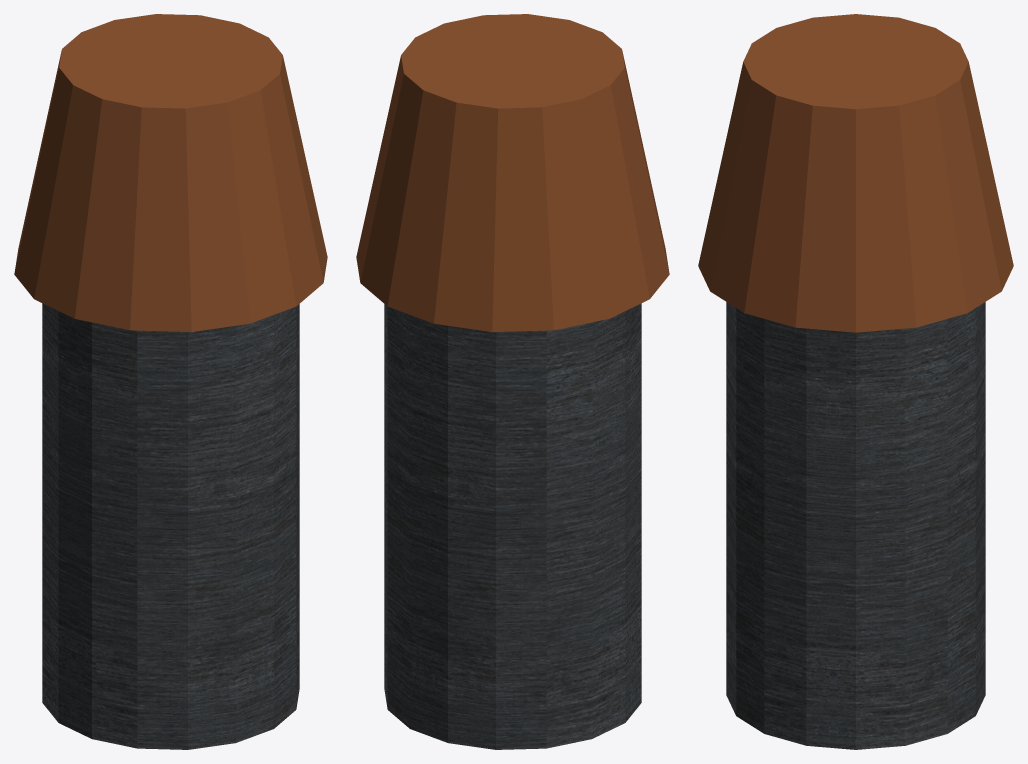
Rendered from commons-coffee-grinder.glb.
The picture shows the model from 3 angles, left to right: view 1: azimuth 30°, elevation 25°; view 2: azimuth 150°, elevation 25°; view 3: azimuth 270°, elevation 25°; orthographic projection.
Parts seen in each view (by area): view 1: FURN_Grinder.001, FURN_BeanHopper.001; view 2: FURN_Grinder.001, FURN_BeanHopper.001; view 3: FURN_Grinder.001, FURN_BeanHopper.001.
Part boxes in pixels (x1,y1,x2,y2): FURN_Grinder.001: (42, 303, 299, 749); FURN_BeanHopper.001: (14, 14, 327, 331); FURN_Grinder.001: (384, 303, 641, 749); FURN_BeanHopper.001: (356, 14, 669, 331); FURN_Grinder.001: (726, 302, 985, 749); FURN_BeanHopper.001: (698, 14, 1013, 332).
Bounding box in the file's own units: 0.28 × 0.62 × 0.28.
2 materials, 1 textured.
